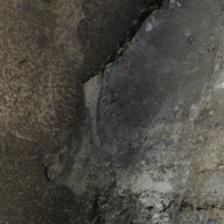Crack: (19, 24, 155, 86), (11, 64, 115, 97)
